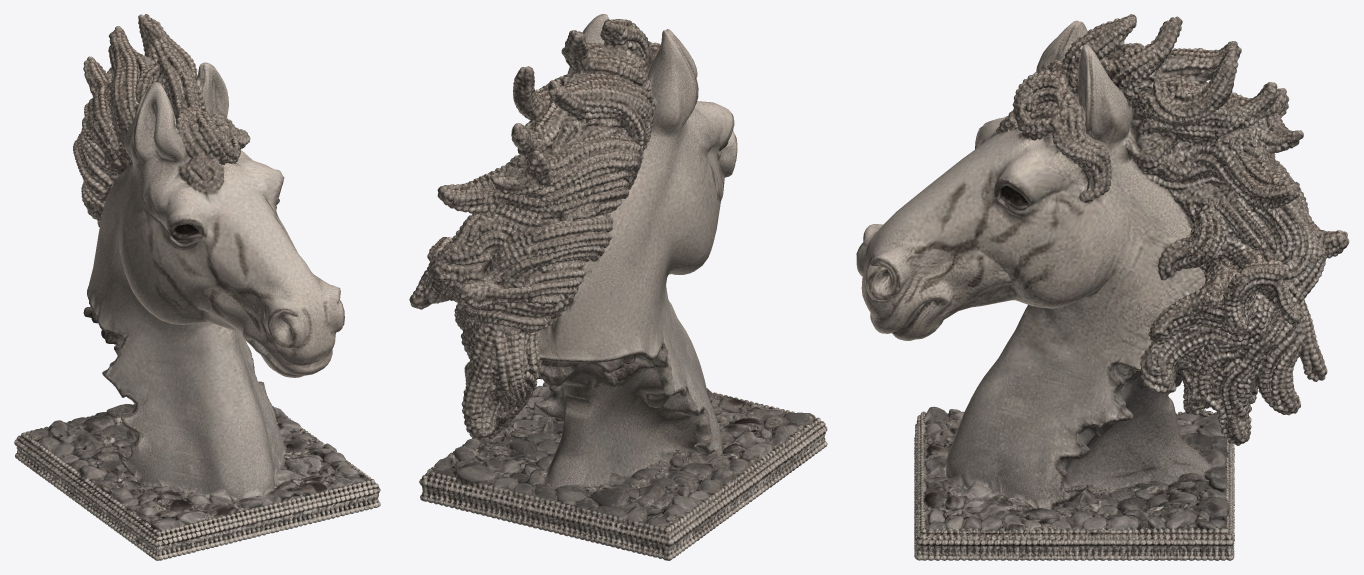
File: hh101-horse.glb
The picture shows the model from 3 angles, left to right: view 1: azimuth 30°, elevation 25°; view 2: azimuth 150°, elevation 25°; view 3: azimuth 270°, elevation 25°; orthographic projection. The views are drawn at different scales.
Parts seen in each view (by area): view 1: mesh_node; view 2: mesh_node; view 3: mesh_node.
Part boxes in pixels (left/top/right/bottom): mesh_node: left=14, top=14, right=380, bottom=560; mesh_node: left=409, top=14, right=827, bottom=560; mesh_node: left=856, top=14, right=1349, bottom=560.
Bounding box in the file's own units: 0.305 × 0.55 × 0.5096.
1 material, 1 textured.
